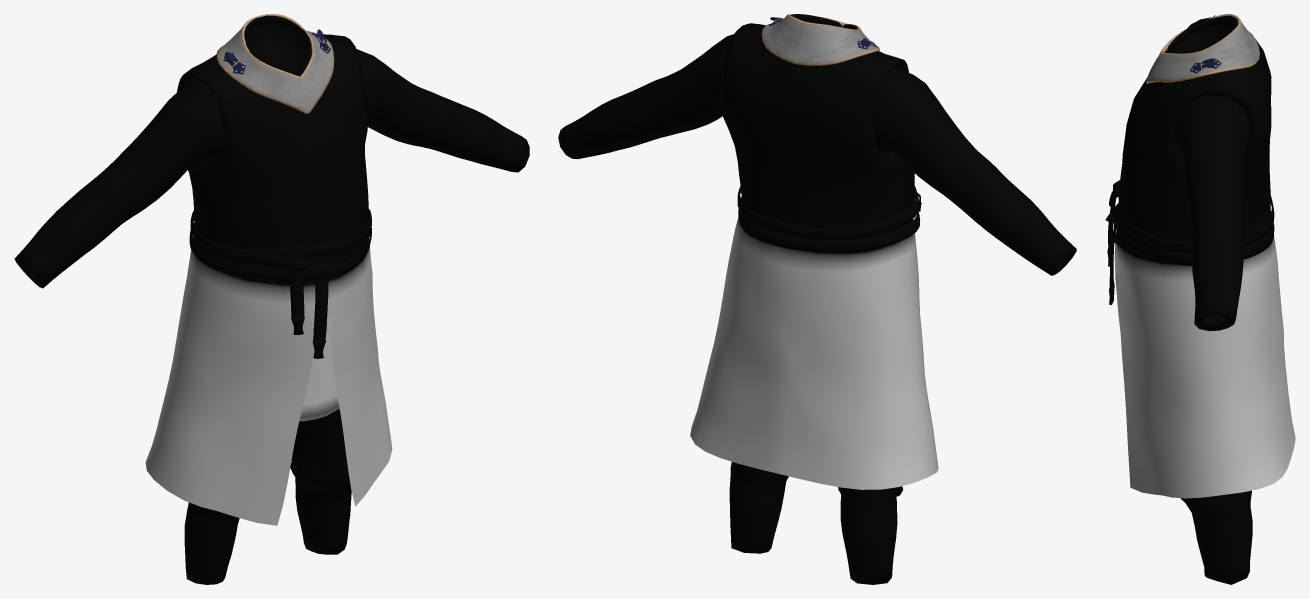
The model's file is swan_knight_armor_tabard2_t2.fbx.
3 renders of one model, left to right at view 1: azimuth 30°, elevation 25°; view 2: azimuth 150°, elevation 25°; view 3: azimuth 270°, elevation 25°, orthographic. The views are drawn at different scales.
Parts seen in each view (by area): view 1: swan_knight_armor_tabard2_t2.0, swan_knight_armor_tabard2_t2.1; view 2: swan_knight_armor_tabard2_t2.0, swan_knight_armor_tabard2_t2.1; view 3: swan_knight_armor_tabard2_t2.0, swan_knight_armor_tabard2_t2.1.
Boxes of the visible parts, x1,y1,x2,y2 form: swan_knight_armor_tabard2_t2.0: (14,15,529,584); swan_knight_armor_tabard2_t2.1: (216,14,334,113); swan_knight_armor_tabard2_t2.0: (558,14,1076,584); swan_knight_armor_tabard2_t2.1: (761,14,879,65); swan_knight_armor_tabard2_t2.0: (1105,16,1295,584); swan_knight_armor_tabard2_t2.1: (1146,14,1259,83).
Bounding box in the file's own units: 1.34 × 0.4478 × 1.37.
